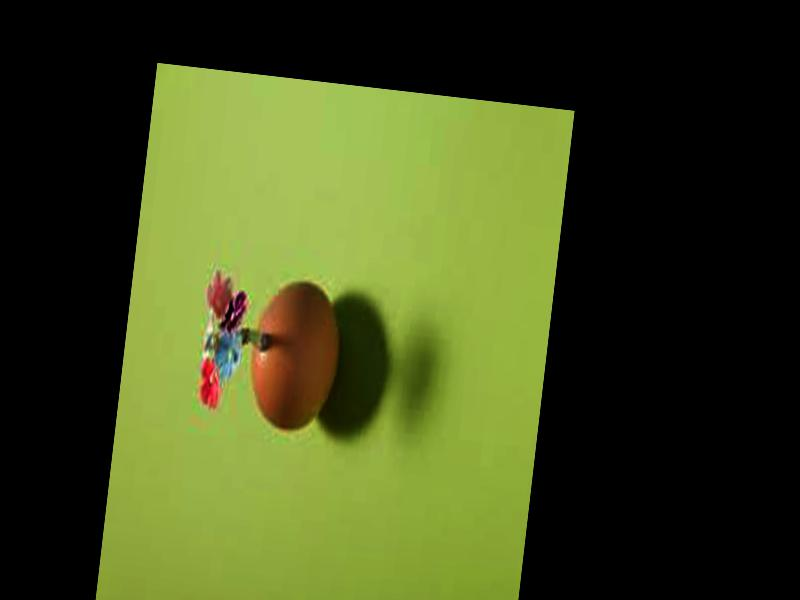Eggs: (245, 277, 347, 433)
